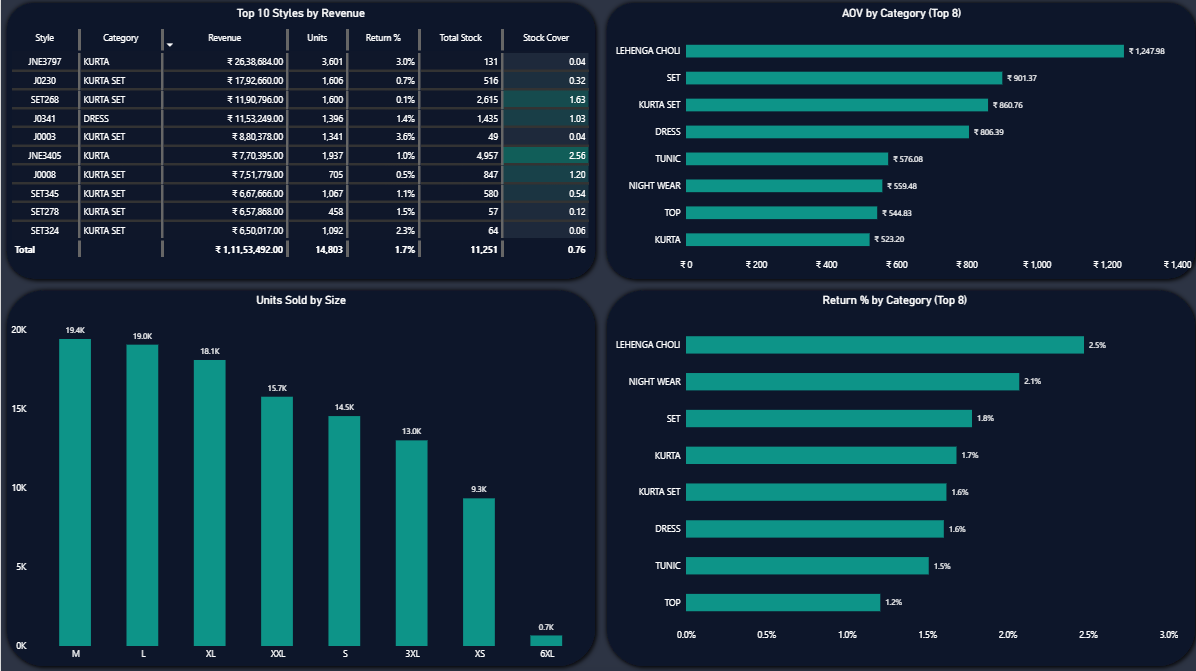

Layout of this report page (visuals, bound fields, positions):
{"tool":"powerbi","page":{"name":"Top styles, size, AOV, return by category","canvas":[1920,1080],"ordinal":1},"visuals":[{"type":"shape","box":[0,0,960,460],"z":0,"group":"g1"},{"type":"group","id":"g1","title":"Group 1","box":[0,0,1920,1080],"z":500},{"type":"tableEx","title":"Top 10 Styles by Revenue","fields":{"Values":["Dim_Product.Style","Dim_Product.Category","_Measures.Revenue","_Measures.Units","_Measures.Return %","_Measures.Total Stock","_Measures.Stock Cover"]},"box":[0,0,959.3,459.6],"z":1000},{"type":"shape","box":[960,0,960,460],"z":1000,"group":"g1"},{"type":"columnChart","title":"Units Sold by Size","fields":{"Category":["Amazon_Sales.Size"],"Y":["_Measures.Units"]},"box":[0,460,960,622],"z":2000},{"type":"shape","box":[0,460,960,620],"z":2000,"group":"g1"},{"type":"barChart","title":"Return % by Category (Top 8)","fields":{"Category":["Dim_Product.Category"],"Y":["_Measures.Return %"]},"box":[960,459.1,939.1,590.6],"z":3000},{"type":"shape","box":[960,460,960,620],"z":3000,"group":"g1"},{"type":"barChart","title":"AOV by Category (Top 8)","fields":{"Category":["Dim_Product.Category"],"Y":["_Measures.AOV"]},"box":[959.3,0,961.1,459.6],"z":4000}]}

Visuals, with their boxes in screenshot pixels (x1, y1, x2, y2), scaled from the page's 1920x1080 canvas onto the 1196x671 screenshot:
shape: box=[0, 0, 598, 286]
"Group 1" group: box=[0, 0, 1195, 670]
"Top 10 Styles by Revenue" tableEx: box=[0, 0, 598, 286]
shape: box=[598, 0, 1195, 286]
"Units Sold by Size" columnChart: box=[0, 286, 598, 670]
shape: box=[0, 286, 598, 670]
"Return % by Category (Top 8)" barChart: box=[598, 285, 1183, 652]
shape: box=[598, 286, 1195, 670]
"AOV by Category (Top 8)" barChart: box=[598, 0, 1195, 286]
